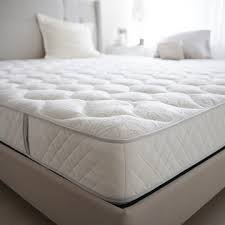bed-matress: (1, 51, 225, 205)
